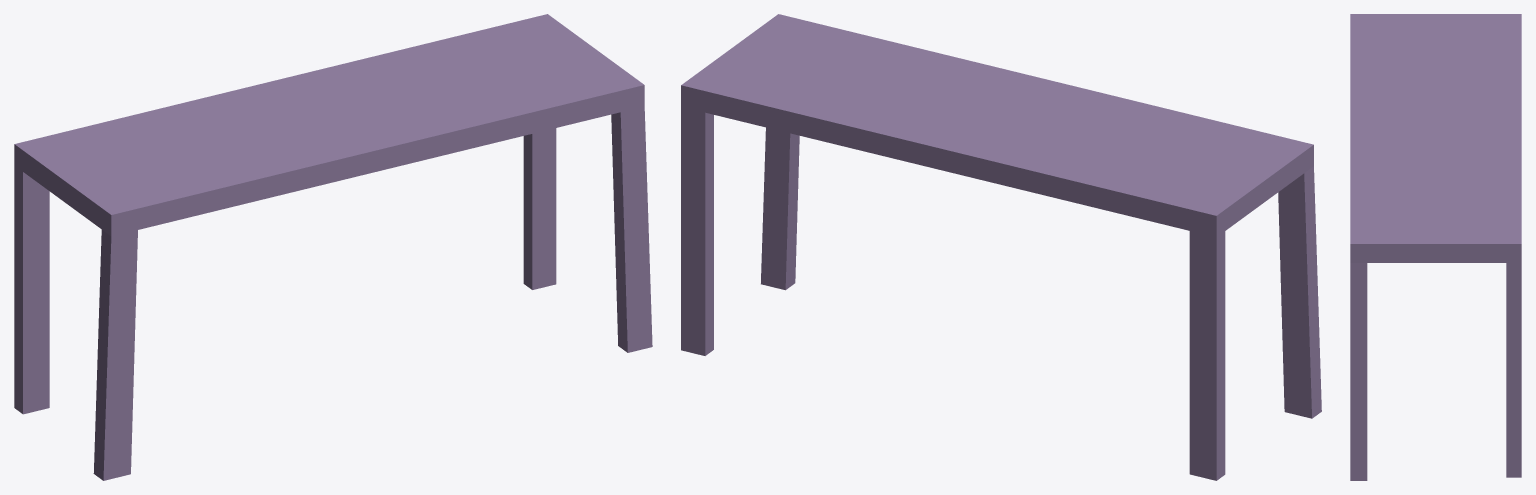
File: Interior_casa.fbx
3 renders of one model, left to right at view 1: azimuth 30°, elevation 25°; view 2: azimuth 150°, elevation 25°; view 3: azimuth 270°, elevation 25°, orthographic. The views are drawn at different scales.
Parts seen in each view (by area): view 1: Mesita; view 2: Mesita; view 3: Mesita.
Boxes of the visible parts, x1,y1,x2,y2 form: Mesita: (14,14,652,480); Mesita: (681,14,1321,480); Mesita: (1350,14,1521,480).
Size of the model in its own units: 7.45 by 3.42 by 2.28.
